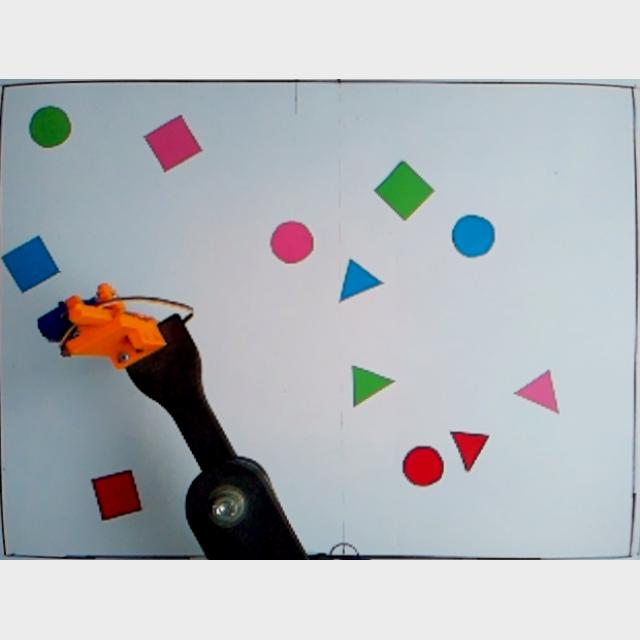blueCircle: (450, 213, 498, 261)
blueSquare: (2, 236, 62, 298)
blueTriangle: (338, 260, 387, 306)
greenCircle: (27, 105, 73, 151)
greenSquare: (374, 160, 436, 223)
greenTriangle: (348, 362, 397, 410)
pinkCircle: (270, 221, 314, 267)
pinkSquare: (142, 114, 204, 176)
pinkTriangle: (513, 370, 561, 418)
redCircle: (402, 446, 446, 490)
redSquare: (88, 466, 144, 526)
redTriangle: (448, 428, 492, 476)
